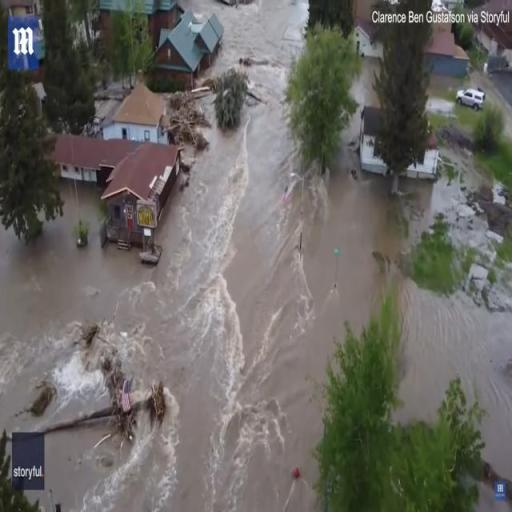flood: (0, 0, 512, 512), (427, 71, 510, 117), (354, 58, 378, 108)
house: (98, 138, 182, 254), (102, 76, 167, 144), (152, 12, 202, 98), (356, 100, 398, 176), (52, 132, 100, 185), (196, 14, 223, 56)
